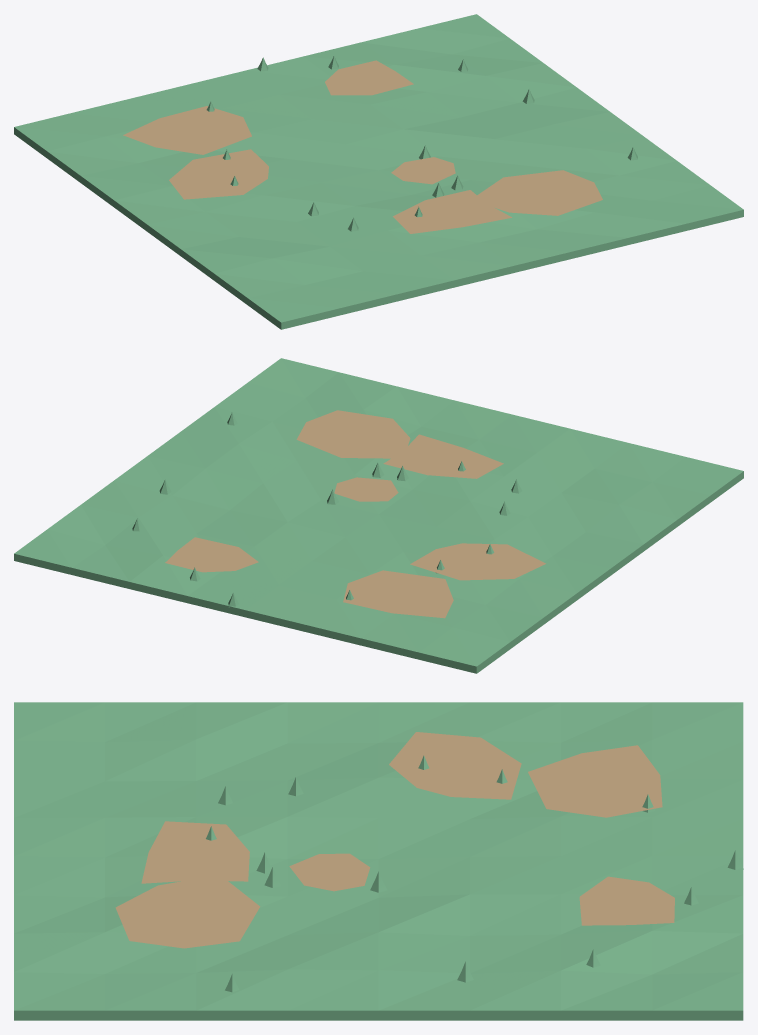
Rendered from live-music-venue-and-festival-stage-festival-field-gro-cd4b04d4__33885.glb.
3 views of the same model, one above another, from view 1: azimuth 30°, elevation 25°; view 2: azimuth 150°, elevation 25°; view 3: azimuth 270°, elevation 25° (orthographic). The views are drawn at different scales.
Visible parts, largest first — view 1: festival-field-ground-tile; view 2: festival-field-ground-tile; view 3: festival-field-ground-tile.
Part boxes in pixels (left/top/right/bottom): festival-field-ground-tile: left=14, top=14, right=743, bottom=329; festival-field-ground-tile: left=14, top=358, right=743, bottom=673; festival-field-ground-tile: left=14, top=702, right=743, bottom=1020.
Bounding box in the file's own units: 4 × 0.1598 × 4.
